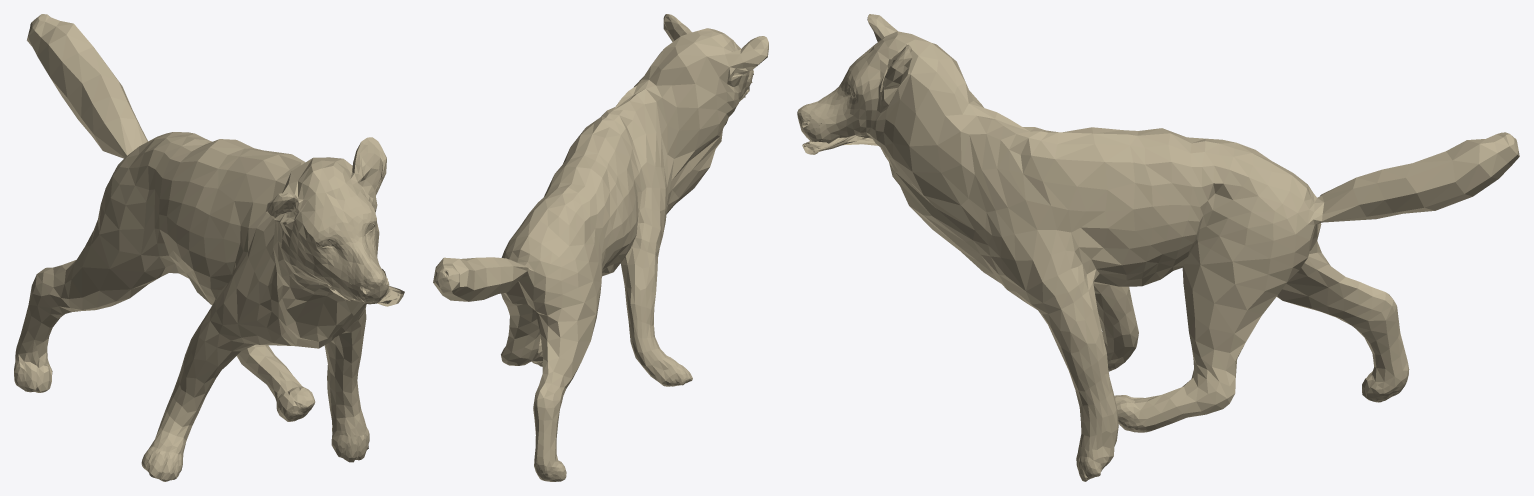
The picture shows the model from 3 angles, left to right: view 1: azimuth 30°, elevation 25°; view 2: azimuth 150°, elevation 25°; view 3: azimuth 270°, elevation 25°; orthographic projection. The views are drawn at different scales.
Visible parts, largest first — view 1: world; view 2: world; view 3: world.
Boxes of the visible parts, <box> form: world: <box>14,14,404,481</box>; world: <box>433,14,768,481</box>; world: <box>797,14,1519,481</box>.
Size of the model in its own units: 0.4585 by 0.8143 by 1.34.
